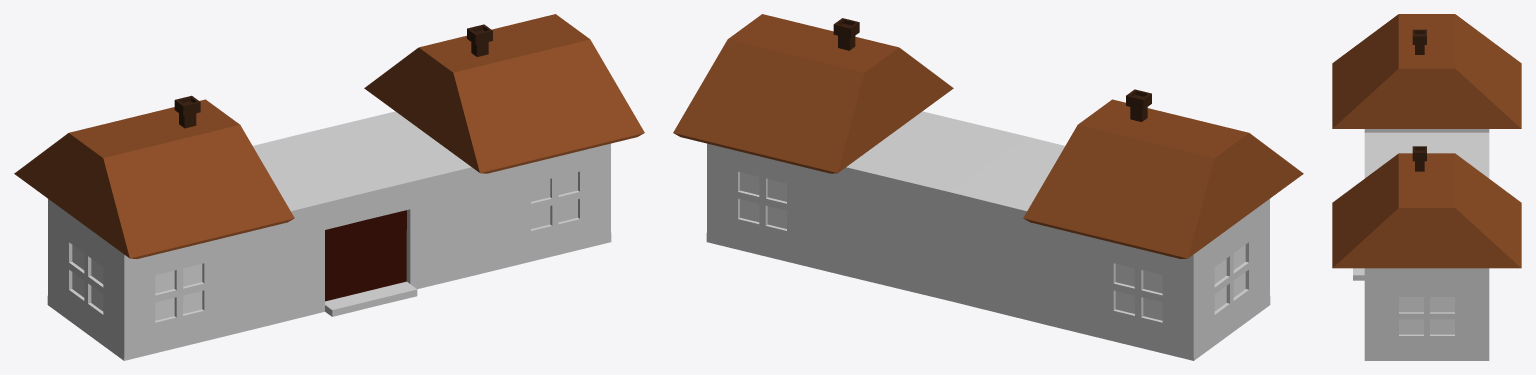
Rendered from manor_house.fbx.
3 views of the same model, side by side, from view 1: azimuth 30°, elevation 25°; view 2: azimuth 150°, elevation 25°; view 3: azimuth 270°, elevation 25° (orthographic). The views are drawn at different scales.
Parts seen in each view (by area): view 1: Cube; view 2: Cube; view 3: Cube.
Part boxes in pixels (<box>): Cube: <box>14,14,644,360</box>; Cube: <box>673,14,1303,360</box>; Cube: <box>1332,14,1521,360</box>.
Bounding box in the file's own units: 779 × 306 × 304.
